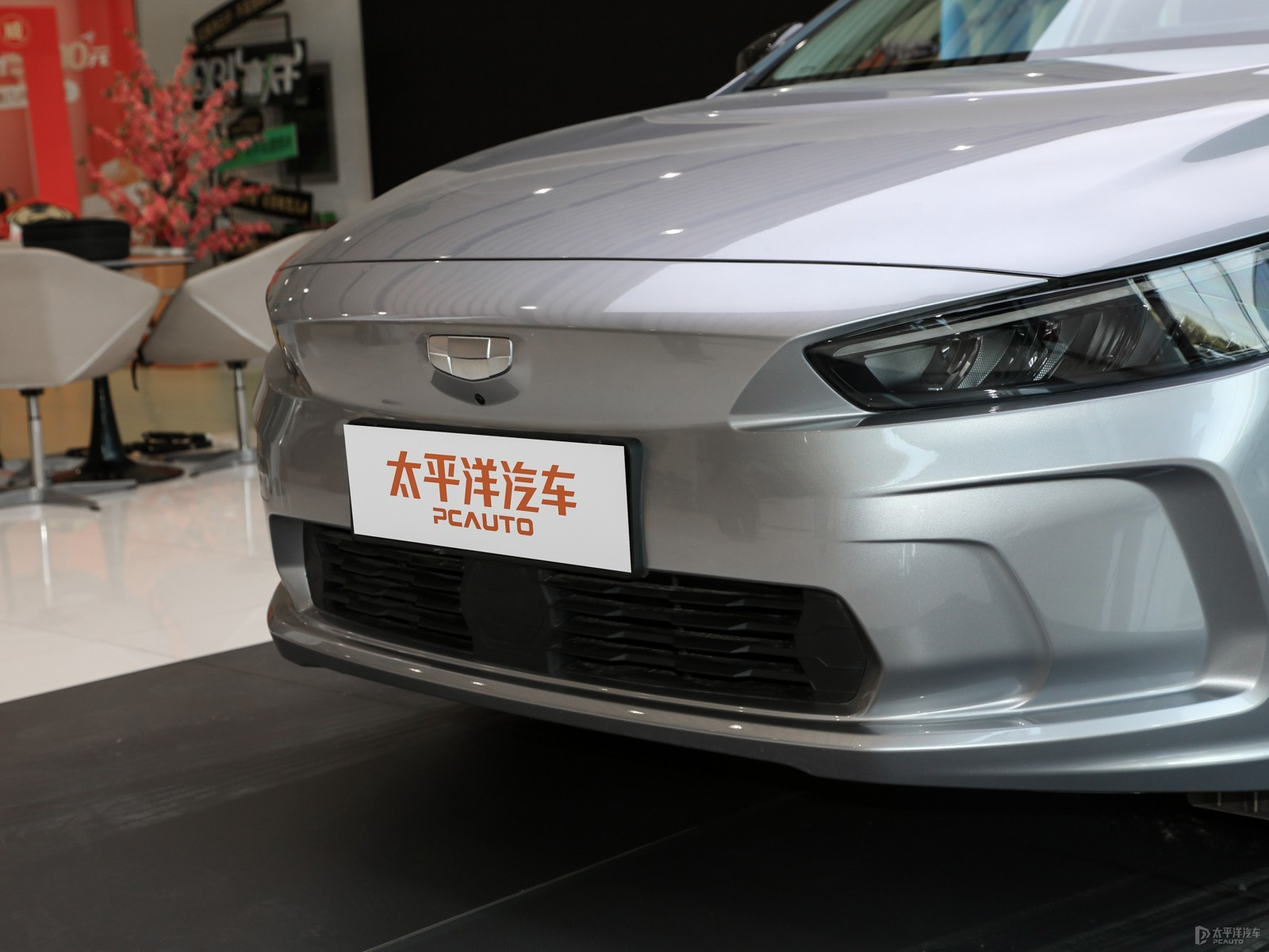GEOMETRY: (429, 337, 510, 378)
